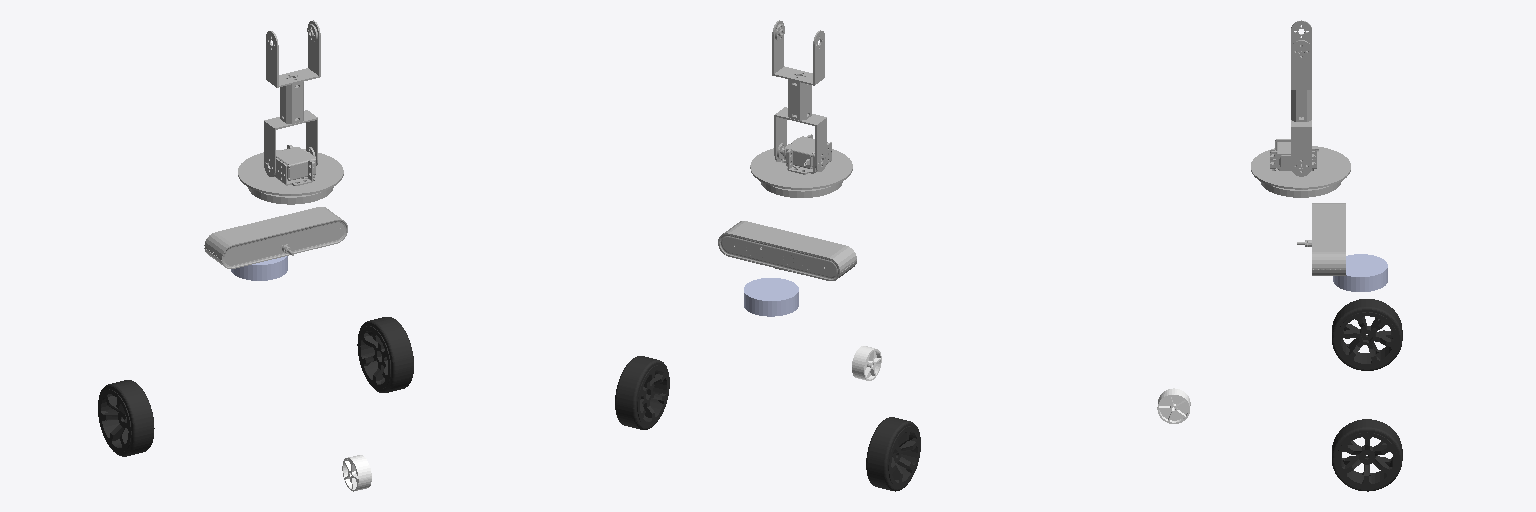
URDF robot description (TF_URDF):
<?xml version="1.0" encoding="utf-8"?>
<!-- This URDF was automatically created by SolidWorks to URDF Exporter! Originally created by [author] ([email redacted]) 
     Commit Version: 1.6.0-4-g7f85cfe  Build Version: 1.6.7995.38578
     For more information, please see http://wiki.ros.org/sw_urdf_exporter -->
<robot
  name="TF_URDF">
  <link
    name="base_link">
    <inertial>
      <origin
        xyz="0.0817686415084985 0.201716253582511 0.245652217757475"
        rpy="0 0 0" />
      <mass
        value="2.12847235417489" />
      <inertia
        ixx="0.00568558429619815"
        ixy="-5.06469118333443E-08"
        ixz="-1.52677188962258E-09"
        iyy="0.0118606210878676"
        iyz="5.49851568728939E-06"
        izz="0.00660980095489616" />
    </inertial>
    <visual>
      <origin
        xyz="0 0 0"
        rpy="0 0 0" />
      <geometry>
        <mesh
          filename="package://TF_URDF/meshes/base_link.STL" />
      </geometry>
      <material
        name="">
        <color
          rgba="0.752941176470588 0.752941176470588 0.752941176470588 1" />
      </material>
    </visual>
    <collision>
      <origin
        xyz="0 0 0"
        rpy="0 0 0" />
      <geometry>
        <mesh
          filename="package://TF_URDF/meshes/base_link.STL" />
      </geometry>
    </collision>
  </link>
  <link
    name="base_laser_link">
    <inertial>
      <origin
        xyz="0.0028721 -0.00017144 0"
        rpy="0 0 0" />
      <mass
        value="0.36837" />
      <inertia
        ixx="9.6829E-05"
        ixy="1.4542E-05"
        ixz="-5.574E-20"
        iyy="0.00035647"
        iyz="-2.3194E-21"
        izz="0.00027601" />
    </inertial>
    <visual>
      <origin
        xyz="0 0 0"
        rpy="0 0 0" />
      <geometry>
        <mesh
          filename="package://TF_URDF/meshes/base_laser_link.STL" />
      </geometry>
      <material
        name="">
        <color
          rgba="0.29804 0.29804 0.29804 1" />
      </material>
    </visual>
    <collision>
      <origin
        xyz="0 0 0"
        rpy="0 0 0" />
      <geometry>
        <mesh
          filename="package://TF_URDF/meshes/base_laser_link.STL" />
      </geometry>
    </collision>
  </link>
  <joint
    name="base_laser_joint"
    type="fixed">
    <origin
      xyz="0.081637 -0.14956 0.22853"
      rpy="1.5708 0 1.5708" />
    <parent
      link="base_link" />
    <child
      link="base_laser_link" />
    <axis
      xyz="0 0 0" />
  </joint>
  <link
    name="laser_link">
    <inertial>
      <origin
        xyz="2.77555756156289E-17 0.00994901655834557 -2.77555756156289E-17"
        rpy="0 0 0" />
      <mass
        value="0.0660277715680958" />
      <inertia
        ixx="1.96156877893573E-05"
        ixy="-1.28490646656236E-22"
        ixz="4.2351647362715E-21"
        iyy="3.48742138584865E-05"
        iyz="2.07966207894997E-22"
        izz="1.96156117763069E-05" />
    </inertial>
    <visual>
      <origin
        xyz="0 0 0"
        rpy="0 0 0" />
      <geometry>
        <mesh
          filename="package://TF_URDF/meshes/laser_link.STL" />
      </geometry>
      <material
        name="">
        <color
          rgba="0.792156862745098 0.819607843137255 0.933333333333333 1" />
      </material>
    </visual>
    <collision>
      <origin
        xyz="0 0 0"
        rpy="0 0 0" />
      <geometry>
        <mesh
          filename="package://TF_URDF/meshes/laser_link.STL" />
      </geometry>
    </collision>
  </link>
  <joint
    name="laser_joint"
    type="continuous">
    <origin
      xyz="-0.01425 0.005 0"
      rpy="3.1416 0.84114 3.1416" />
    <parent
      link="base_laser_link" />
    <child
      link="laser_link" />
    <axis
      xyz="0 1 0" />
  </joint>
  <link
    name="camera_link">
    <inertial>
      <origin
        xyz="-3.59690519788347E-06 -8.99346713536531E-05 -0.0199626938384505"
        rpy="0 0 0" />
      <mass
        value="0.18299872097753" />
      <inertia
        ixx="3.59922737707122E-05"
        ixy="2.02071945527673E-09"
        ixz="4.50577550158109E-08"
        iyy="0.000405203074559153"
        iyz="4.47034664095324E-08"
        izz="0.000396282423728644" />
    </inertial>
    <visual>
      <origin
        xyz="0 0 0"
        rpy="0 0 0" />
      <geometry>
        <mesh
          filename="package://TF_URDF/meshes/camera_link.STL" />
      </geometry>
      <material
        name="">
        <color
          rgba="0.752941176470588 0.752941176470588 0.752941176470588 1" />
      </material>
    </visual>
    <collision>
      <origin
        xyz="0 0 0"
        rpy="0 0 0" />
      <geometry>
        <mesh
          filename="package://TF_URDF/meshes/camera_link.STL" />
      </geometry>
    </collision>
  </link>
  <joint
    name="camera_joint"
    type="fixed">
    <origin
      xyz="0.081637 -0.18181 0.28753"
      rpy="1.5708 0 3.1416" />
    <parent
      link="base_link" />
    <child
      link="camera_link" />
    <axis
      xyz="0 0 0" />
  </joint>
  <link
    name="left_wheel_link">
    <inertial>
      <origin
        xyz="-0.0150496497452623 -1.96229144044935E-12 -2.77555756156289E-17"
        rpy="0 0 0" />
      <mass
        value="0.0895053073671552" />
      <inertia
        ixx="0.000104006422478187"
        ixy="7.89418446961566E-16"
        ixz="4.65503323340839E-20"
        iyy="5.80082032825446E-05"
        iyz="9.78345076935346E-16"
        izz="5.80082032677947E-05" />
    </inertial>
    <visual>
      <origin
        xyz="0 0 0"
        rpy="0 0 0" />
      <geometry>
        <mesh
          filename="package://TF_URDF/meshes/left_wheel_link.STL" />
      </geometry>
      <material
        name="">
        <color
          rgba="0.250980392156863 0.250980392156863 0.250980392156863 1" />
      </material>
    </visual>
    <collision>
      <origin
        xyz="0 0 0"
        rpy="0 0 0" />
      <geometry>
        <mesh
          filename="package://TF_URDF/meshes/left_wheel_link.STL" />
      </geometry>
    </collision>
  </link>
  <joint
    name="left_wheel_joint"
    type="continuous">
    <origin
      xyz="-0.072863 -0.15606 0.083528"
      rpy="0.84849 0 0" />
    <parent
      link="base_link" />
    <child
      link="left_wheel_link" />
    <axis
      xyz="1 0 0" />
  </joint>
  <link
    name="right_wheel_link">
    <inertial>
      <origin
        xyz="-0.0150496497452624 -1.96037630573187E-12 -1.13797860024079E-15"
        rpy="0 0 0" />
      <mass
        value="0.0895053073671552" />
      <inertia
        ixx="0.000104006422478187"
        ixy="7.89525481188872E-16"
        ixz="-4.59989735872422E-20"
        iyy="5.80082032825445E-05"
        iyz="9.7834677100124E-16"
        izz="5.80082032677946E-05" />
    </inertial>
    <visual>
      <origin
        xyz="0 0 0"
        rpy="0 0 0" />
      <geometry>
        <mesh
          filename="package://TF_URDF/meshes/right_wheel_link.STL" />
      </geometry>
      <material
        name="">
        <color
          rgba="0.250980392156863 0.250980392156863 0.250980392156863 1" />
      </material>
    </visual>
    <collision>
      <origin
        xyz="0 0 0"
        rpy="0 0 0" />
      <geometry>
        <mesh
          filename="package://TF_URDF/meshes/right_wheel_link.STL" />
      </geometry>
    </collision>
  </link>
  <joint
    name="right_wheel_joint"
    type="continuous">
    <origin
      xyz="0.23614 -0.15606 0.083528"
      rpy="0.5371 0 3.1416" />
    <parent
      link="base_link" />
    <child
      link="right_wheel_link" />
    <axis
      xyz="1 0 0" />
  </joint>
  <link
    name="caster_wheel_link">
    <inertial>
      <origin
        xyz="0.00988759049853666 -5.55111512312578E-17 -4.85722573273506E-17"
        rpy="0 0 0" />
      <mass
        value="0.01152385226836" />
      <inertia
        ixx="2.43995864492354E-06"
        ixy="-1.18452263717594E-21"
        ixz="5.37047012700053E-22"
        iyy="1.40033256895838E-06"
        iyz="-1.419441931141E-21"
        izz="1.40033256895838E-06" />
    </inertial>
    <visual>
      <origin
        xyz="0 0 0"
        rpy="0 0 0" />
      <geometry>
        <mesh
          filename="package://TF_URDF/meshes/caster_wheel_link.STL" />
      </geometry>
      <material
        name="">
        <color
          rgba="1 1 1 1" />
      </material>
    </visual>
    <collision>
      <origin
        xyz="0 0 0"
        rpy="0 0 0" />
      <geometry>
        <mesh
          filename="package://TF_URDF/meshes/caster_wheel_link.STL" />
      </geometry>
    </collision>
  </link>
  <joint
    name="caster_wheel_joint"
    type="continuous">
    <origin
      xyz="0.071174 -0.38546 0.068528"
      rpy="3.1007 0 -0.034236" />
    <parent
      link="base_link" />
    <child
      link="caster_wheel_link" />
    <axis
      xyz="1 0 0" />
  </joint>
  <link
    name="arm_1_link">
    <inertial>
      <origin
        xyz="-0.00304007443823012 0.0196164335839695 -0.0029151743350484"
        rpy="0 0 0" />
      <mass
        value="0.102309676276625" />
      <inertia
        ixx="5.85277338482376E-05"
        ixy="-1.83034221412611E-07"
        ixz="-5.85534114234214E-07"
        iyy="0.000109918724812753"
        iyz="3.63048958051063E-07"
        izz="5.95682017387261E-05" />
    </inertial>
    <visual>
      <origin
        xyz="0 0 0"
        rpy="0 0 0" />
      <geometry>
        <mesh
          filename="package://TF_URDF/meshes/arm_1_link.STL" />
      </geometry>
      <material
        name="">
        <color
          rgba="0.752941176470588 0.752941176470588 0.752941176470588 1" />
      </material>
    </visual>
    <collision>
      <origin
        xyz="0 0 0"
        rpy="0 0 0" />
      <geometry>
        <mesh
          filename="package://TF_URDF/meshes/arm_1_link.STL" />
      </geometry>
    </collision>
  </link>
  <joint
    name="arm_1_joint"
    type="revolute">
    <origin
      xyz="0.081637 -0.23481 0.36503"
      rpy="1.5708 0 1.9678" />
    <parent
      link="base_link" />
    <child
      link="arm_1_link" />
    <axis
      xyz="0 1 0" />
    <limit
      lower="-1.57"
      upper="1.57"
      effort="10"
      velocity="100" />
  </joint>
  <link
    name="arm_2_link">
    <inertial>
      <origin
        xyz="-0.00136241892646594 0.0760000000000007 0.00324974749187036"
        rpy="0 0 0" />
      <mass
        value="0.0731866074343535" />
      <inertia
        ixx="4.80073815600739E-05"
        ixy="-1.00851029760306E-08"
        ixz="8.91994561566134E-06"
        iyy="3.20760640864427E-05"
        iyz="2.40557712940828E-08"
        izz="3.04704178358835E-05" />
    </inertial>
    <visual>
      <origin
        xyz="0 0 0"
        rpy="0 0 0" />
      <geometry>
        <mesh
          filename="package://TF_URDF/meshes/arm_2_link.STL" />
      </geometry>
      <material
        name="">
        <color
          rgba="0.752941176470588 0.752941176470588 0.752941176470588 1" />
      </material>
    </visual>
    <collision>
      <origin
        xyz="0 0 0"
        rpy="0 0 0" />
      <geometry>
        <mesh
          filename="package://TF_URDF/meshes/arm_2_link.STL" />
      </geometry>
    </collision>
  </link>
  <joint
    name="arm_2_joint"
    type="revolute">
    <origin
      xyz="0.00057178 0.0325 0.00023971"
      rpy="0 0 0" />
    <parent
      link="arm_1_link" />
    <child
      link="arm_2_link" />
    <axis
      xyz="0.38664 0 -0.92223" />
    <limit
      lower="-1.57"
      upper="1.57"
      effort="10"
      velocity="100" />
  </joint>
  <link
    name="arm_3_link">
    <inertial>
      <origin
        xyz="-0.00258153232770741 0.0524015939370736 0.00093918113872897"
        rpy="0 0 0" />
      <mass
        value="0.103604281286433" />
      <inertia
        ixx="3.85881019286922E-05"
        ixy="-4.80398927794602E-07"
        ixz="5.05895934821054E-06"
        iyy="2.28862113261529E-05"
        iyz="-1.44453356198874E-07"
        izz="2.9779453438644E-05" />
    </inertial>
    <visual>
      <origin
        xyz="0 0 0"
        rpy="0 0 0" />
      <geometry>
        <mesh
          filename="package://TF_URDF/meshes/arm_3_link.STL" />
      </geometry>
      <material
        name="">
        <color
          rgba="0.752941176470588 0.752941176470588 0.752941176470588 1" />
      </material>
    </visual>
    <collision>
      <origin
        xyz="0 0 0"
        rpy="0 0 0" />
      <geometry>
        <mesh
          filename="package://TF_URDF/meshes/arm_3_link.STL" />
      </geometry>
    </collision>
  </link>
  <joint
    name="arm_3_joint"
    type="revolute">
    <origin
      xyz="0 0.152 0"
      rpy="0 0 0" />
    <parent
      link="arm_2_link" />
    <child
      link="arm_3_link" />
    <axis
      xyz="0.38664 0 -0.92223" />
    <limit
      lower="-1.57"
      upper="1.57"
      effort="10"
      velocity="100" />
  </joint>
  <link
    name="arm_4_link">
    <inertial>
      <origin
        xyz="-0.00101187420564097 0.037501178610022 -0.00366708120952357"
        rpy="0 0 0" />
      <mass
        value="0.0995665365644681" />
      <inertia
        ixx="2.11129357138422E-05"
        ixy="-8.60509971623193E-08"
        ixz="2.61664426208593E-06"
        iyy="1.51148951719955E-05"
        iyz="-3.60758807510701E-08"
        izz="1.71059724128212E-05" />
    </inertial>
    <visual>
      <origin
        xyz="0 0 0"
        rpy="0 0 0" />
      <geometry>
        <mesh
          filename="package://TF_URDF/meshes/arm_4_link.STL" />
      </geometry>
      <material
        name="">
        <color
          rgba="0.752941176470588 0.752941176470588 0.752941176470588 1" />
      </material>
    </visual>
    <collision>
      <origin
        xyz="0 0 0"
        rpy="0 0 0" />
      <geometry>
        <mesh
          filename="package://TF_URDF/meshes/arm_4_link.STL" />
      </geometry>
    </collision>
  </link>
  <joint
    name="arm_4_joint"
    type="revolute">
    <origin
      xyz="0 0.1464 0"
      rpy="0 0 0" />
    <parent
      link="arm_3_link" />
    <child
      link="arm_4_link" />
    <axis
      xyz="0.38664 0 -0.92223" />
    <limit
      lower="-1.57"
      upper="1.57"
      effort="10"
      velocity="100" />
  </joint>
  <link
    name="arm_5_link">
    <inertial>
      <origin
        xyz="-0.00868940066555671 0.0276881875406454 -0.0253003256745066"
        rpy="0 0 0" />
      <mass
        value="0.0375612763588538" />
      <inertia
        ixx="6.51328883590985E-06"
        ixy="4.82424647091244E-09"
        ixz="1.70111532974576E-06"
        iyy="6.43248421285331E-06"
        iyz="-9.59387279796932E-09"
        izz="2.9512265127056E-06" />
    </inertial>
    <visual>
      <origin
        xyz="0 0 0"
        rpy="0 0 0" />
      <geometry>
        <mesh
          filename="package://TF_URDF/meshes/arm_5_link.STL" />
      </geometry>
      <material
        name="">
        <color
          rgba="0.752941176470588 0.752941176470588 0.752941176470588 1" />
      </material>
    </visual>
    <collision>
      <origin
        xyz="0 0 0"
        rpy="0 0 0" />
      <geometry>
        <mesh
          filename="package://TF_URDF/meshes/arm_5_link.STL" />
      </geometry>
    </collision>
  </link>
  <joint
    name="arm_5_joint"
    type="revolute">
    <origin
      xyz="0.00056091 0.09115 0.0028104"
      rpy="-3.1416 0 3.1416" />
    <parent
      link="arm_4_link" />
    <child
      link="arm_5_link" />
    <axis
      xyz="0 1 0" />
    <limit
      lower="-1.57"
      upper="1.57"
      effort="10"
      velocity="100" />
  </joint>
  <link
    name="gripper_1_link">
    <inertial>
      <origin
        xyz="0.000163480467175819 -0.0040398348913101 0.00336463442648766"
        rpy="0 0 0" />
      <mass
        value="0.00233893532260202" />
      <inertia
        ixx="2.44085104510321E-07"
        ixy="-4.9133963204329E-09"
        ixz="1.75877144742389E-23"
        iyy="7.71995240694166E-08"
        iyz="3.15652852663286E-22"
        izz="3.18397565042681E-07" />
    </inertial>
    <visual>
      <origin
        xyz="0 0 0"
        rpy="0 0 0" />
      <geometry>
        <mesh
          filename="package://TF_URDF/meshes/gripper_1_link.STL" />
      </geometry>
      <material
        name="">
        <color
          rgba="0.792156862745098 0.819607843137255 0.933333333333333 1" />
      </material>
    </visual>
    <collision>
      <origin
        xyz="0 0 0"
        rpy="0 0 0" />
      <geometry>
        <mesh
          filename="package://TF_URDF/meshes/gripper_1_link.STL" />
      </geometry>
    </collision>
  </link>
  <joint
    name="gripper_1_joint"
    type="revolute">
    <origin
      xyz="0.0068104 0.0295 -0.011783"
      rpy="0.63968 -1.068 2.4376" />
    <parent
      link="arm_5_link" />
    <child
      link="gripper_1_link" />
    <axis
      xyz="0 0 1" />
    <limit
      lower="-1.57"
      upper="1.57"
      effort="10"
      velocity="100" />
  </joint>
</robot>

--- Facts derived from the render (not from the file) ---
3 views of the same robot in one strip: view 1: azimuth 30°, elevation 25°; view 2: azimuth 150°, elevation 25°; view 3: azimuth 270°, elevation 25° (orthographic).
Model TF_URDF with 13 links and 12 joints (6 revolute, 4 continuous, 2 fixed), rooted at base_link, posed all joints at 0.
Visible links, largest first — view 1: camera_link, arm_1_link, arm_2_link, left_wheel_link, right_wheel_link, laser_link, caster_wheel_link; view 2: camera_link, arm_1_link, arm_2_link, left_wheel_link, right_wheel_link, laser_link, caster_wheel_link; view 3: left_wheel_link, right_wheel_link, arm_1_link, arm_2_link, camera_link, laser_link, caster_wheel_link.
Link boxes in pixels (left/top/right/bottom): camera_link: left=204, top=207, right=347, bottom=268; arm_1_link: left=238, top=145, right=343, bottom=204; arm_2_link: left=264, top=20, right=320, bottom=176; left_wheel_link: left=98, top=380, right=154, bottom=456; right_wheel_link: left=357, top=317, right=413, bottom=392; laser_link: left=231, top=256, right=287, bottom=280; caster_wheel_link: left=342, top=455, right=371, bottom=491; camera_link: left=718, top=221, right=856, bottom=280; arm_1_link: left=750, top=134, right=852, bottom=197; arm_2_link: left=772, top=20, right=826, bottom=171; left_wheel_link: left=866, top=417, right=920, bottom=491; right_wheel_link: left=615, top=356, right=669, bottom=429; laser_link: left=744, top=278, right=798, bottom=316; caster_wheel_link: left=852, top=346, right=881, bottom=380; left_wheel_link: left=1332, top=299, right=1402, bottom=370; right_wheel_link: left=1332, top=419, right=1402, bottom=491; arm_1_link: left=1251, top=139, right=1350, bottom=197; arm_2_link: left=1291, top=20, right=1311, bottom=176; camera_link: left=1297, top=203, right=1345, bottom=275; laser_link: left=1333, top=254, right=1387, bottom=291; caster_wheel_link: left=1157, top=388, right=1190, bottom=423.
Size in the robot's own frame: 0.369 by 0.2916 by 0.5221 metres.
7 mesh visuals loaded from 13 distinct referenced files (7 binary STL); not drawn: 6 (reference not matched to a file when rendering).